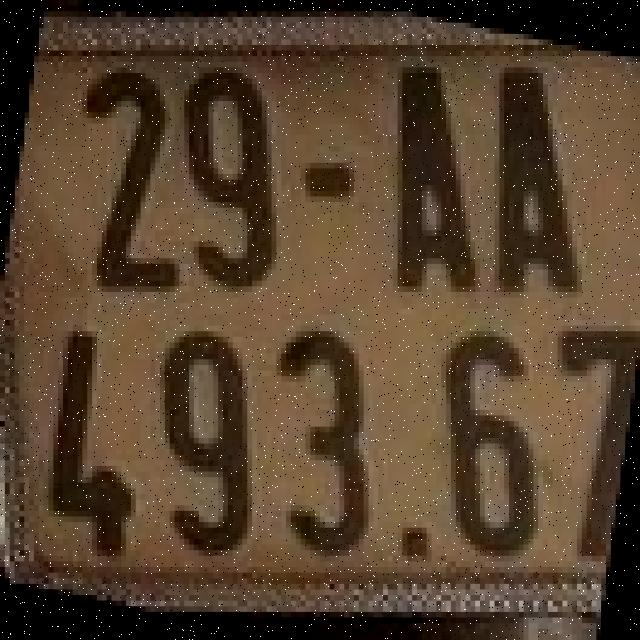2: (75, 56, 182, 298)
3: (272, 320, 378, 556)
4: (36, 317, 143, 559)
6: (438, 323, 540, 553)
7: (555, 320, 638, 556)
9: (153, 320, 259, 556), (179, 62, 286, 292)
A: (487, 61, 594, 298), (380, 56, 482, 298)
